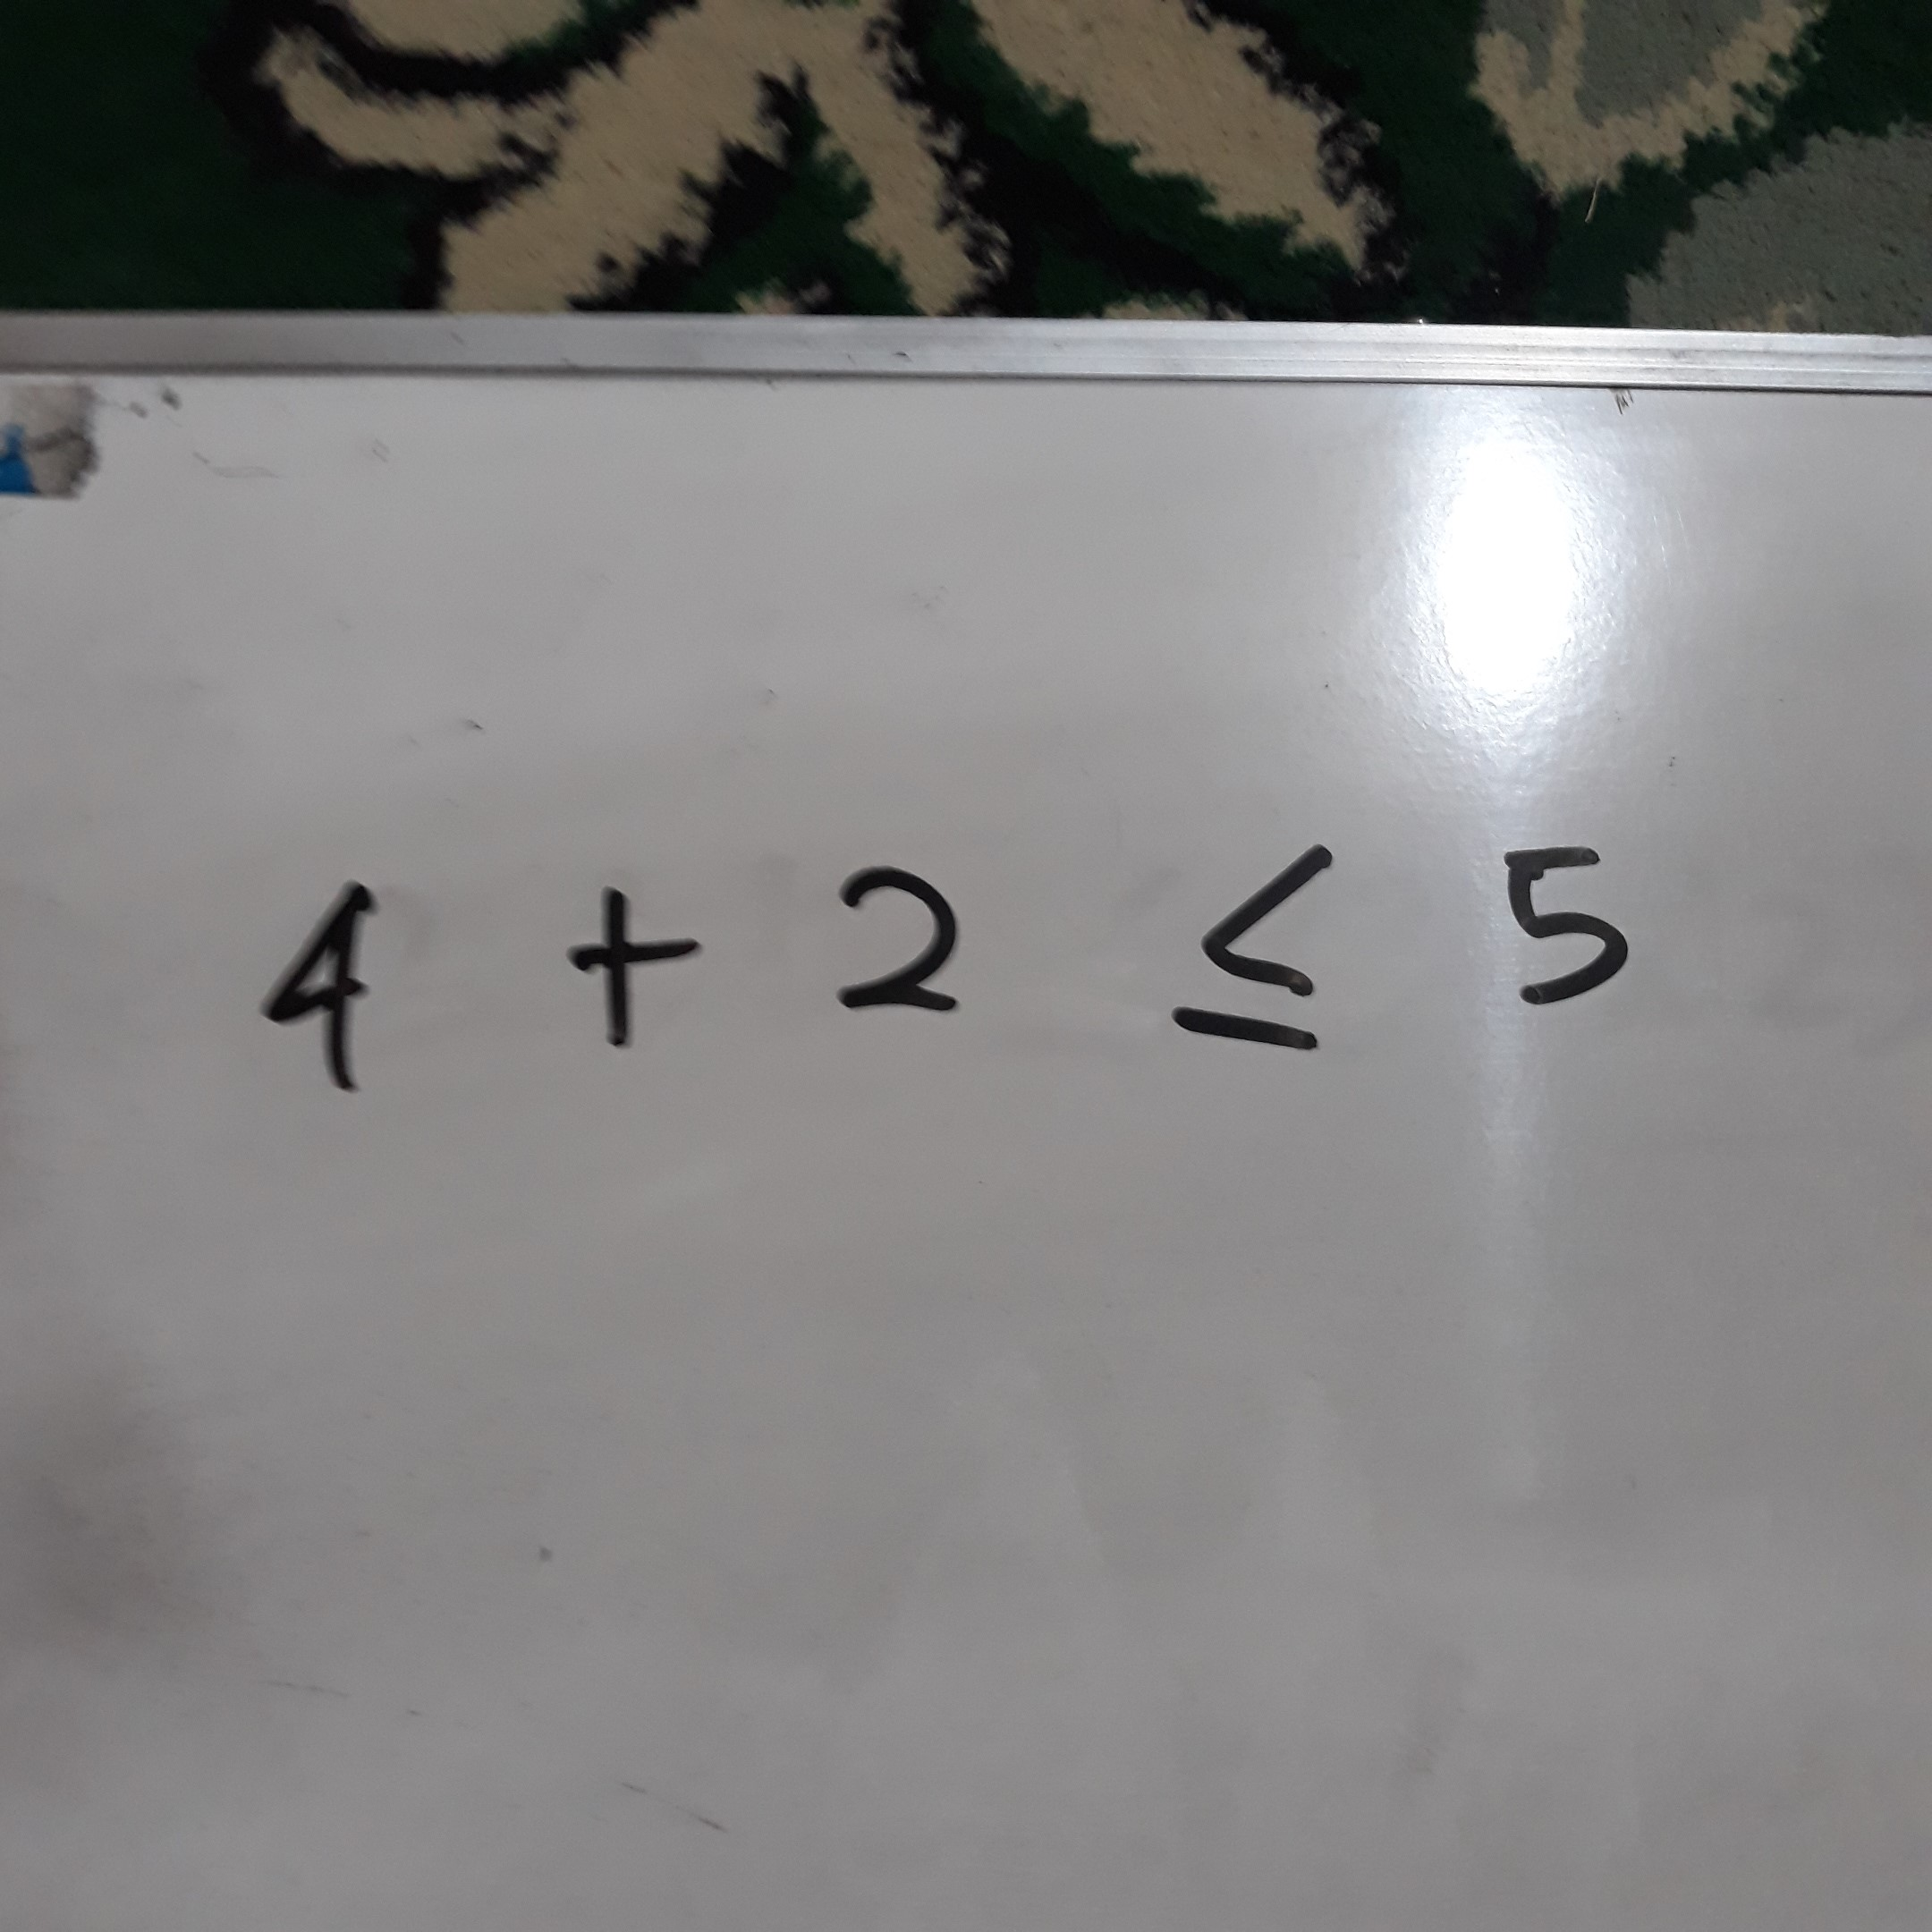lessthan-equal: (1147, 828, 1368, 1080)
num2: (807, 847, 978, 1035)
num4: (228, 849, 404, 1114)
num5: (1474, 832, 1655, 1021)
sum: (538, 871, 708, 1059)
